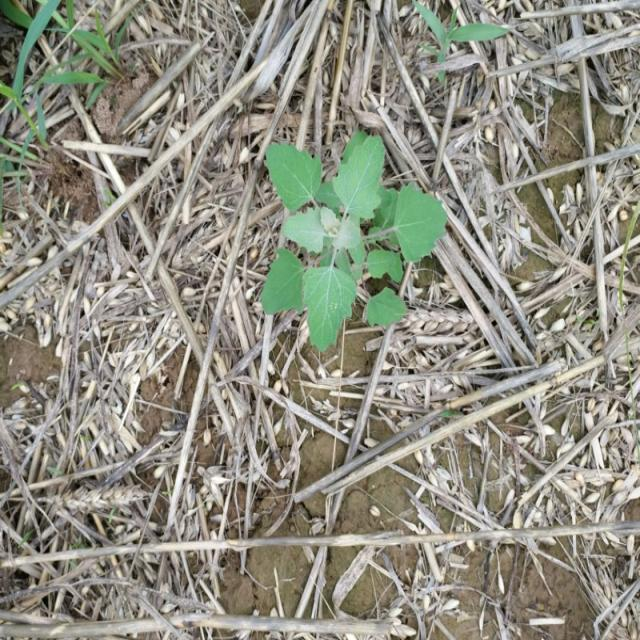goosefoots: (261, 122, 443, 348)
